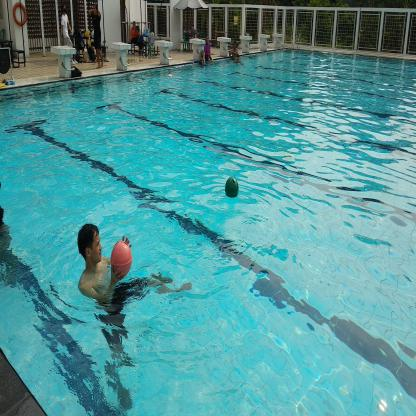green_buoy: (223, 174, 241, 202)
red_buoy: (109, 240, 134, 278)
